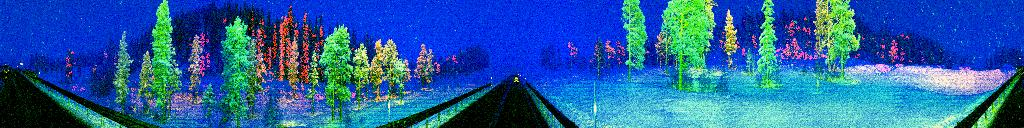pole: (592, 78, 598, 128), (387, 88, 392, 124)
